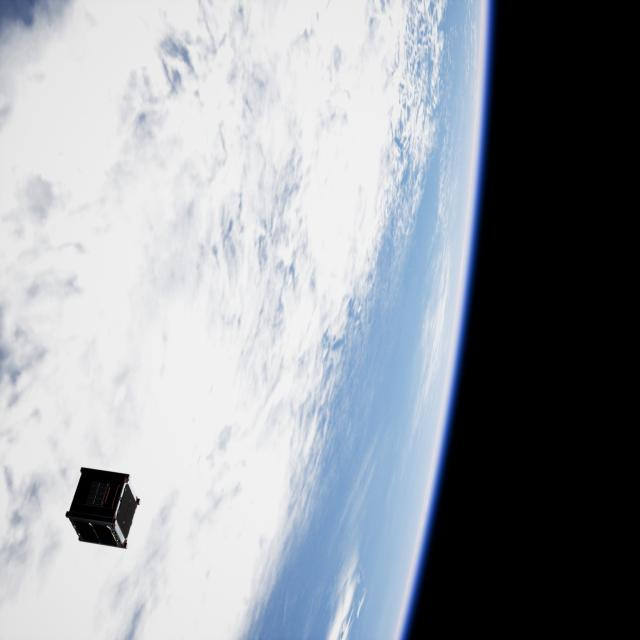medium_debris: (66, 464, 148, 552)
